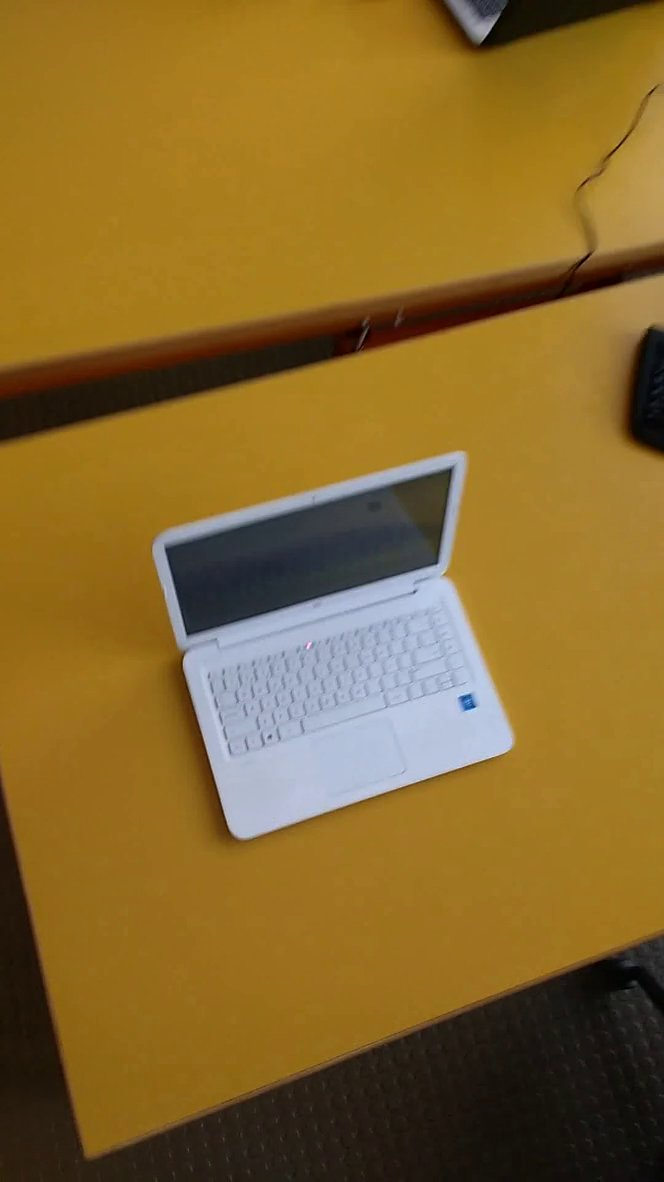laptop: (149, 441, 521, 846)
